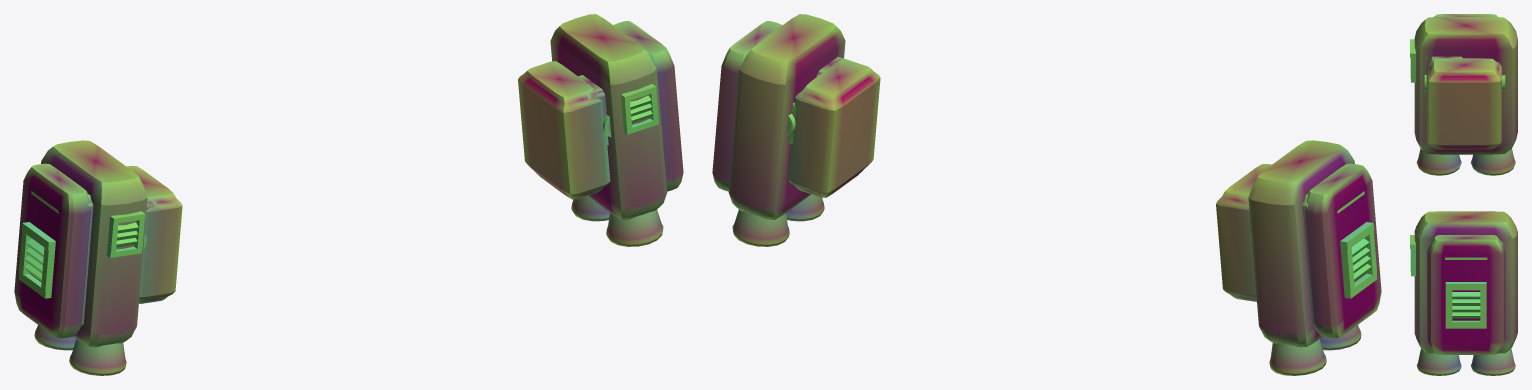
Rendered from llm_gen_leg_thrusters_041_ba1370.glb.
3 renders of one model, left to right at view 1: azimuth 30°, elevation 25°; view 2: azimuth 150°, elevation 25°; view 3: azimuth 270°, elevation 25°, orthographic. The views are drawn at different scales.
Parts seen in each view (by area): view 1: greave_pylon_0_adapter_dark_r, greave_pylon_0_adapter_dark_l, adapter_calf_clamp_r, lateral_binder_shroud_2_crimson_gloss_l, adapter_calf_clamp_l, lateral_binder_shroud_2_crimson_gloss_r, ankle_vector_bell_b_7_vernier_bell_vernier_l, adapter_sub_binder_side_vent_3_dark_l, ankle_vector_bell_b_7_vernier_bell_vernier_r, adapter_sub_greave_intake_grille_5_dark_l, adapter_sub_greave_intake_grille_5_dark_r, ankle_vector_bell_a_6_vernier_bell_vernier_r (+2 smaller); view 2: greave_pylon_0_adapter_dark_r, greave_pylon_0_adapter_dark_l, adapter_calf_clamp_r, lateral_binder_shroud_2_crimson_gloss_l, adapter_calf_clamp_l, lateral_binder_shroud_2_crimson_gloss_r, ankle_vector_bell_a_6_vernier_bell_vernier_l, adapter_sub_binder_side_vent_3_dark_l, ankle_vector_bell_a_6_vernier_bell_vernier_r, ankle_vector_bell_b_7_vernier_bell_vernier_r, binder_side_vent_3_gold_l, ankle_vector_bell_b_7_vernier_bell_vernier_l; view 3: lateral_binder_shroud_2_crimson_gloss_r, greave_pylon_0_adapter_dark_l, adapter_calf_clamp_l, greave_pylon_0_adapter_dark_r, adapter_sub_binder_side_vent_3_dark_r, ankle_vector_bell_a_6_vernier_bell_vernier_r, ankle_vector_bell_b_7_vernier_bell_vernier_r, ankle_vector_bell_b_7_vernier_bell_vernier_l, ankle_vector_bell_a_6_vernier_bell_vernier_l, binder_side_vent_3_gold_r, adapter_sub_greave_intake_grille_5_dark_l, adapter_sub_greave_intake_grille_5_dark_r (+4 smaller).
Boxes of the visible parts, <box> form: greave_pylon_0_adapter_dark_r: <box>550,14,667,219</box>; greave_pylon_0_adapter_dark_l: <box>41,140,147,347</box>; adapter_calf_clamp_r: <box>518,61,610,199</box>; lateral_binder_shroud_2_crimson_gloss_l: <box>14,163,90,338</box>; adapter_calf_clamp_l: <box>126,165,182,303</box>; lateral_binder_shroud_2_crimson_gloss_r: <box>613,21,683,191</box>; ankle_vector_bell_b_7_vernier_bell_vernier_l: <box>69,339,126,375</box>; adapter_sub_binder_side_vent_3_dark_l: <box>18,222,55,298</box>; ankle_vector_bell_b_7_vernier_bell_vernier_r: <box>606,209,663,246</box>; adapter_sub_greave_intake_grille_5_dark_l: <box>107,211,145,257</box>; adapter_sub_greave_intake_grille_5_dark_r: <box>621,83,658,134</box>; ankle_vector_bell_a_6_vernier_bell_vernier_r: <box>571,196,609,221</box>; greave_pylon_0_adapter_dark_r: <box>728,14,845,219</box>; greave_pylon_0_adapter_dark_l: <box>1248,140,1354,347</box>; adapter_calf_clamp_r: <box>788,59,880,197</box>; lateral_binder_shroud_2_crimson_gloss_l: <box>1305,163,1381,338</box>; adapter_calf_clamp_l: <box>1216,164,1271,301</box>; lateral_binder_shroud_2_crimson_gloss_r: <box>712,21,782,191</box>; ankle_vector_bell_a_6_vernier_bell_vernier_l: <box>1269,339,1326,375</box>; adapter_sub_binder_side_vent_3_dark_l: <box>1340,222,1377,298</box>; ankle_vector_bell_a_6_vernier_bell_vernier_r: <box>732,209,789,246</box>; ankle_vector_bell_b_7_vernier_bell_vernier_r: <box>786,194,824,221</box>; binder_side_vent_3_gold_l: <box>1351,238,1371,281</box>; ankle_vector_bell_b_7_vernier_bell_vernier_l: <box>1320,325,1361,350</box>; lateral_binder_shroud_2_crimson_gloss_r: <box>1427,235,1505,354</box>; greave_pylon_0_adapter_dark_l: <box>1414,17,1517,154</box>; adapter_calf_clamp_l: <box>1426,58,1501,149</box>; greave_pylon_0_adapter_dark_r: <box>1414,211,1517,353</box>; adapter_sub_binder_side_vent_3_dark_r: <box>1445,282,1486,328</box>; ankle_vector_bell_a_6_vernier_bell_vernier_r: <box>1470,348,1515,375</box>; ankle_vector_bell_b_7_vernier_bell_vernier_r: <box>1416,348,1461,375</box>; ankle_vector_bell_b_7_vernier_bell_vernier_l: <box>1416,148,1461,175</box>; ankle_vector_bell_a_6_vernier_bell_vernier_l: <box>1470,148,1515,175</box>; binder_side_vent_3_gold_r: <box>1452,292,1480,318</box>; adapter_sub_greave_intake_grille_5_dark_l: <box>1410,39,1415,82</box>; adapter_sub_greave_intake_grille_5_dark_r: <box>1410,235,1415,276</box>.
Size of the model in its own units: 82.98 by 23.9 by 15.73.
